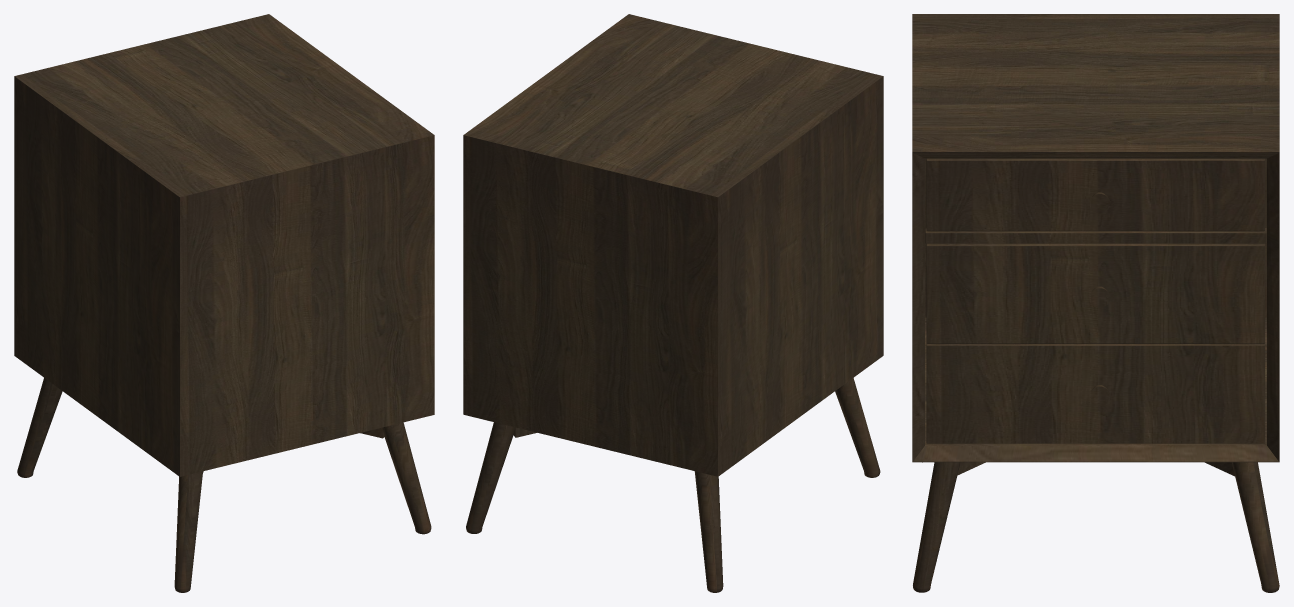
Rendered from 034fc194-c99c-4ba4-92cb-87660fa26cce.glb.
3 renders of one model, left to right at view 1: azimuth 30°, elevation 25°; view 2: azimuth 150°, elevation 25°; view 3: azimuth 270°, elevation 25°, orthographic. The views are drawn at different scales.
Parts seen in each view (by area): view 1: Box8222939, Cylinder887165, Cylinder887168, Cylinder887164; view 2: Box8222939, Cylinder887164, Cylinder887169, Cylinder887165; view 3: Box8222939, Rectangle1174521448, Rectangle1174521450, Rectangle1174521447, Rectangle1174521449, Cylinder887169, Cylinder887168.
Boxes of the visible parts, x1,y1,x2,y2 form: Box8222939: [14, 14, 434, 476]; Cylinder887165: [174, 471, 202, 592]; Cylinder887168: [382, 422, 431, 534]; Cylinder887164: [17, 378, 62, 477]; Box8222939: [463, 14, 883, 476]; Cylinder887164: [694, 471, 723, 592]; Cylinder887169: [466, 422, 515, 533]; Cylinder887165: [835, 378, 880, 477]; Box8222939: [912, 14, 1279, 462]; Rectangle1174521448: [926, 243, 1264, 343]; Rectangle1174521450: [926, 344, 1264, 443]; Rectangle1174521447: [926, 158, 1264, 231]; Rectangle1174521449: [925, 228, 1266, 243]; Cylinder887169: [1232, 462, 1279, 592]; Cylinder887168: [913, 462, 960, 592].
Size of the model in its own units: 0.4005 by 0.5964 by 0.45.
1 material, 1 textured.
